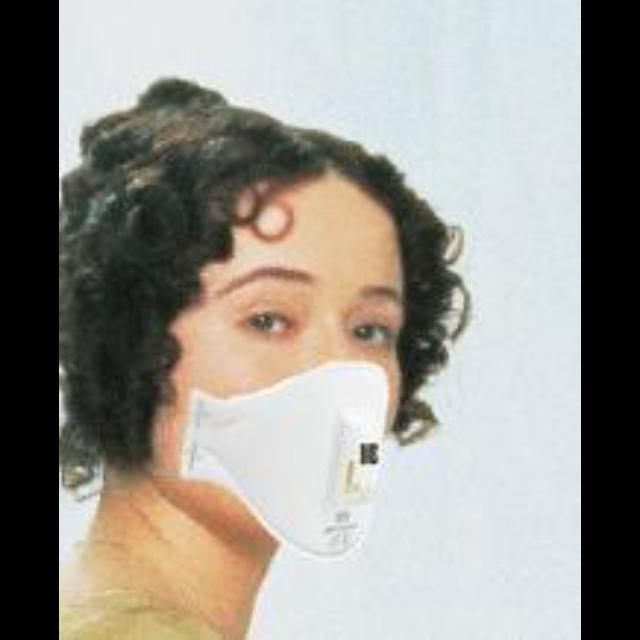suspicion: (158, 120, 418, 558)
